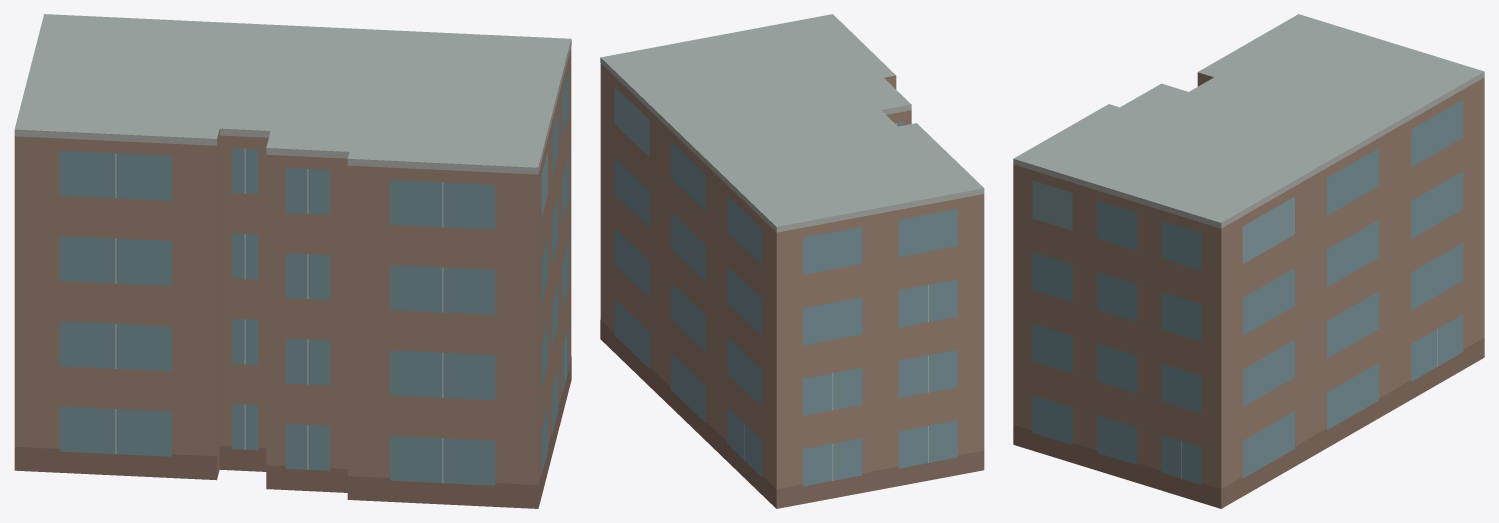
File: survey-upis-32533922.glb
3 renders of one model, left to right at view 1: azimuth 30°, elevation 25°; view 2: azimuth 150°, elevation 25°; view 3: azimuth 270°, elevation 25°, orthographic. The views are drawn at different scales.
Visible parts, largest first — view 1: survey-upis-32533922.tmp; view 2: survey-upis-32533922.tmp; view 3: survey-upis-32533922.tmp.
Boxes of the visible parts, x1,y1,x2,y2 form: survey-upis-32533922.tmp: (14,14,571,508); survey-upis-32533922.tmp: (600,14,984,508); survey-upis-32533922.tmp: (1013,14,1484,508).
Bounding box in the file's own units: 19.13 × 12.2 × 18.24.
